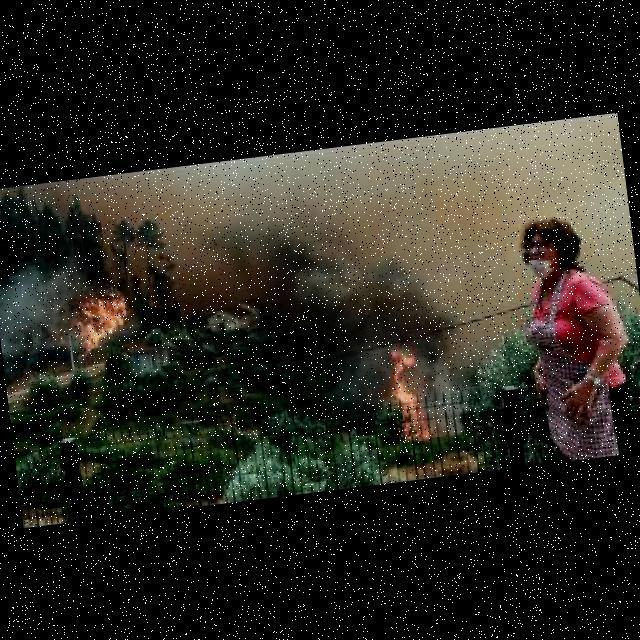Fire: (48, 277, 154, 358), (376, 340, 449, 443)
